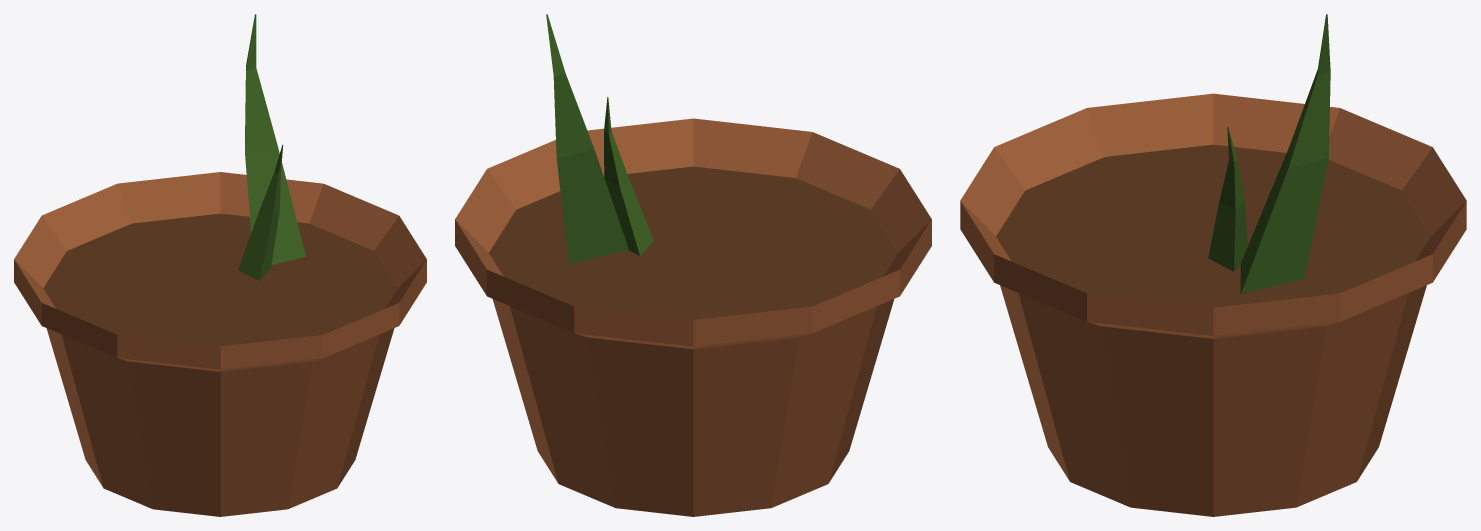
File: growing-plant-in-pot.glb
The picture shows the model from 3 angles, left to right: view 1: azimuth 30°, elevation 25°; view 2: azimuth 150°, elevation 25°; view 3: azimuth 270°, elevation 25°; orthographic projection. The views are drawn at different scales.
Visible parts, largest first — view 1: Cylinder, Cylinder.001, Cylinder.002; view 2: Cylinder, Cylinder.001, Cylinder.002; view 3: Cylinder, Cylinder.001, Cylinder.002.
Part boxes in pixels (left/top/right/bottom): Cylinder: left=14, top=172, right=426, bottom=516; Cylinder.001: left=245, top=14, right=305, bottom=264; Cylinder.002: left=238, top=144, right=283, bottom=280; Cylinder: left=455, top=118, right=931, bottom=516; Cylinder.001: left=546, top=14, right=628, bottom=264; Cylinder.002: left=604, top=97, right=653, bottom=255; Cylinder: left=960, top=93, right=1466, bottom=516; Cylinder.001: left=1240, top=14, right=1330, bottom=294; Cylinder.002: left=1208, top=127, right=1247, bottom=271.
Size of the model in its own units: 3.06 by 3.21 by 3.06.
